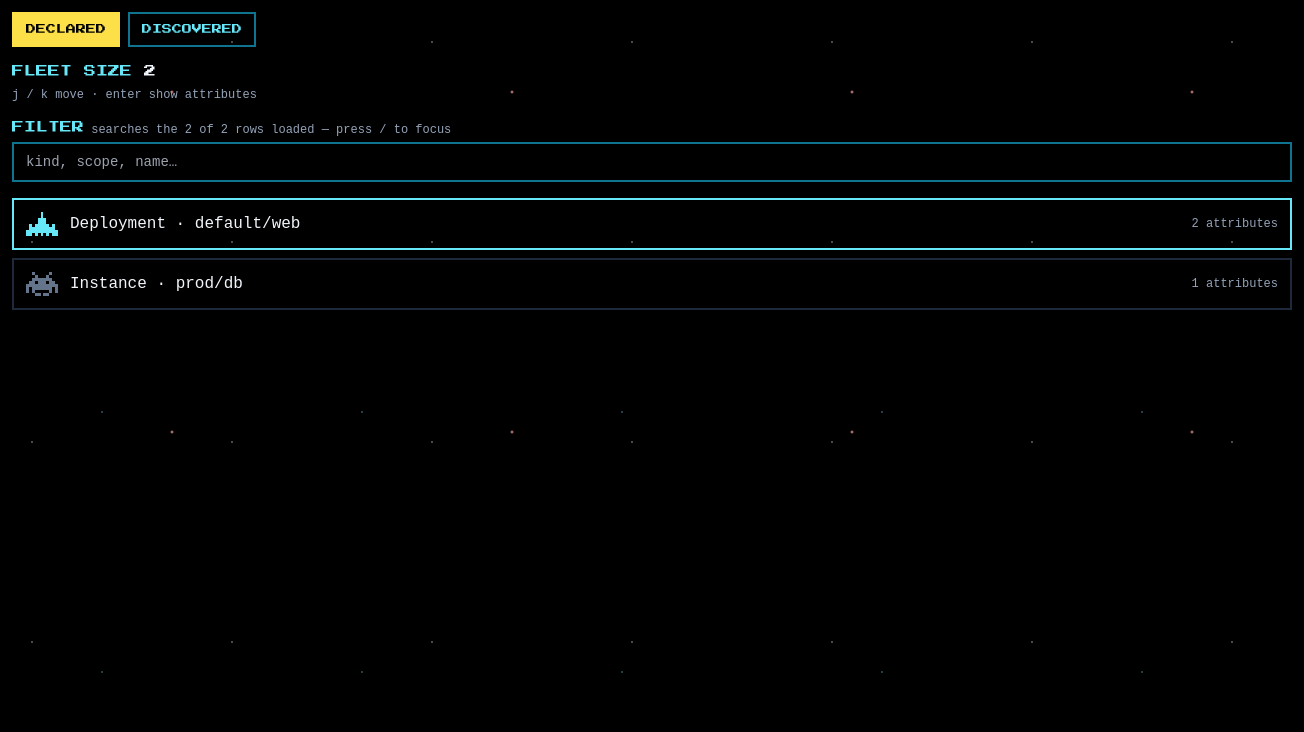
the filter narrows the loaded rows by kind, scope or name
expect the text "Deployment · default/web" is shown: met, box [70,212,300,236]
Step 1. Type "prod" into the field → (652, 162), box [12,142,1292,182]
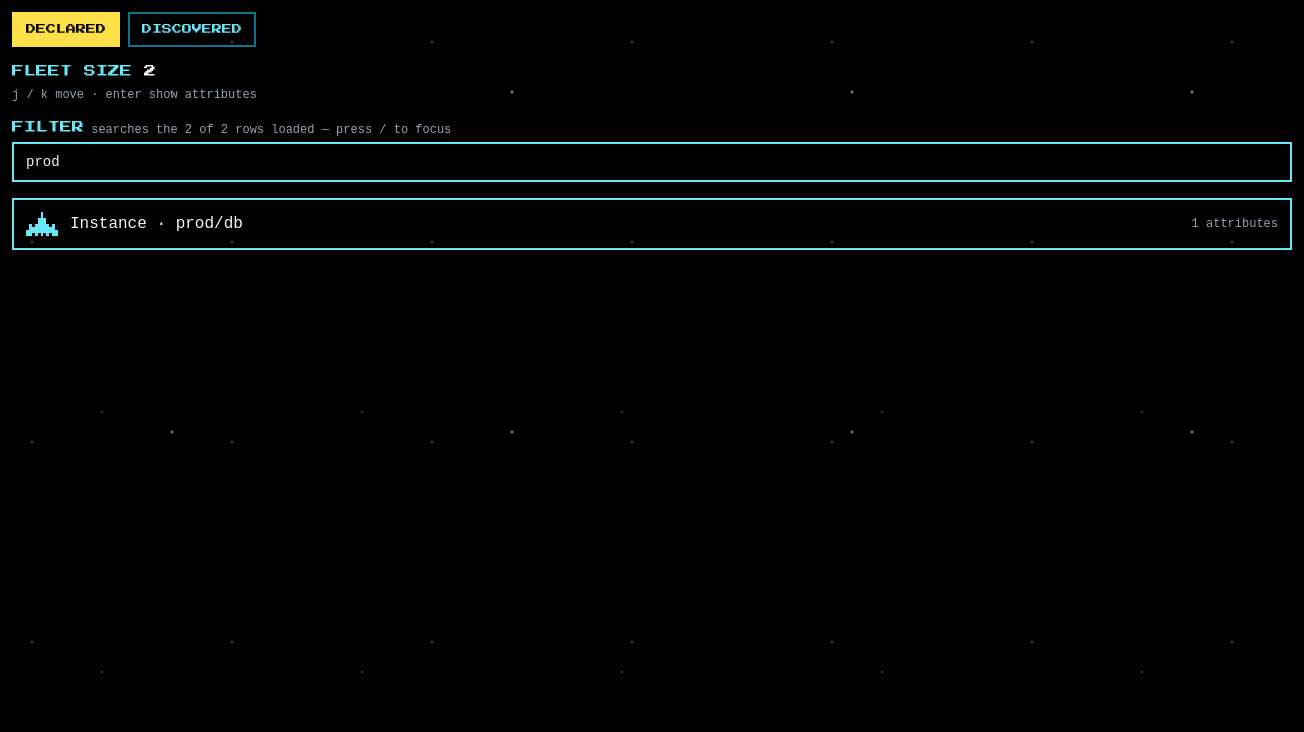
expect the text "Instance · prod/db" is shown: met, box [70,212,243,236]
expect the button "Deployment · default/web" is gone: met
